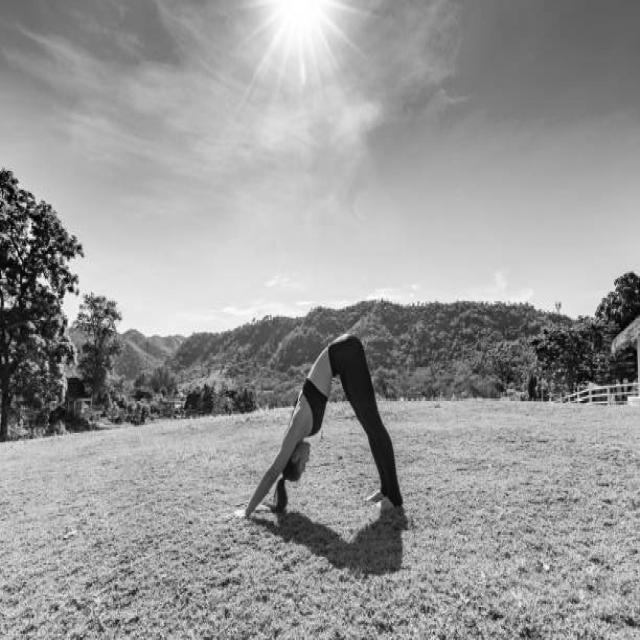Downward-Facing_Dog: (220, 327, 418, 526)
